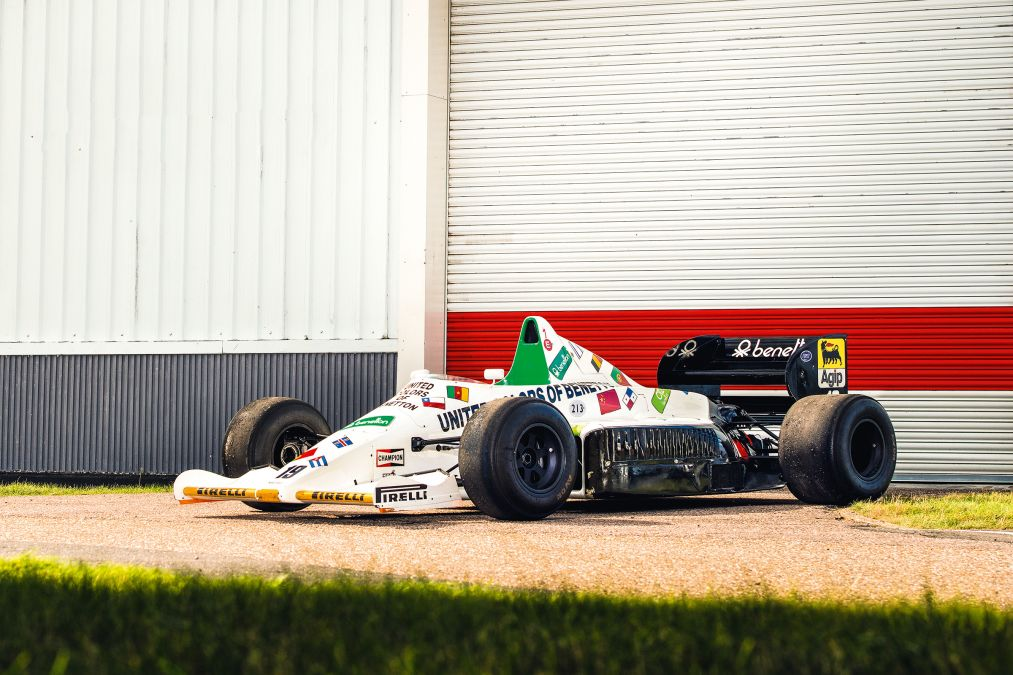f1_car: (153, 292, 913, 533)
